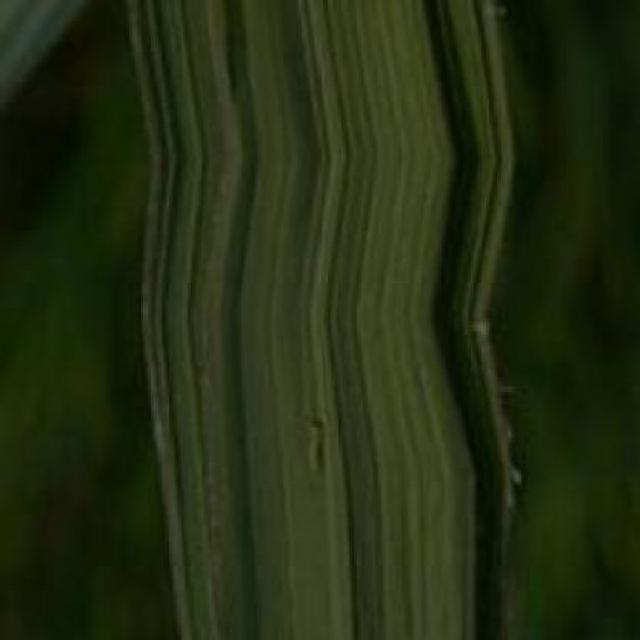leaf-folder: (282, 394, 340, 494)
